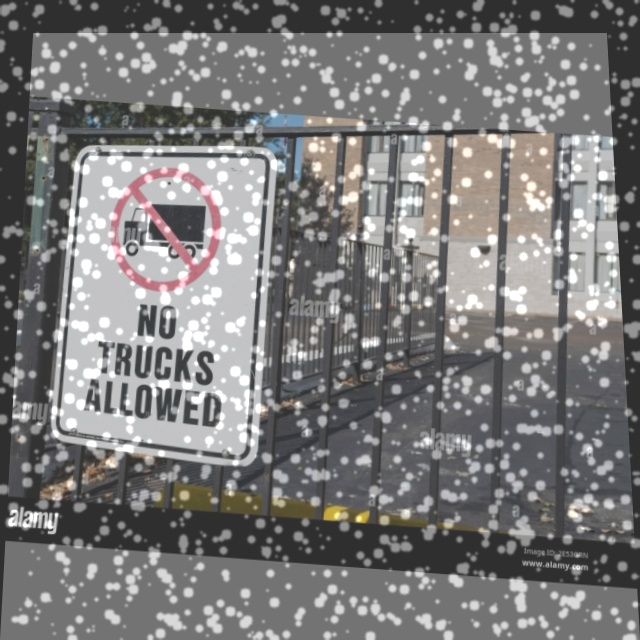Truck_Prohibited: (96, 153, 232, 303)
